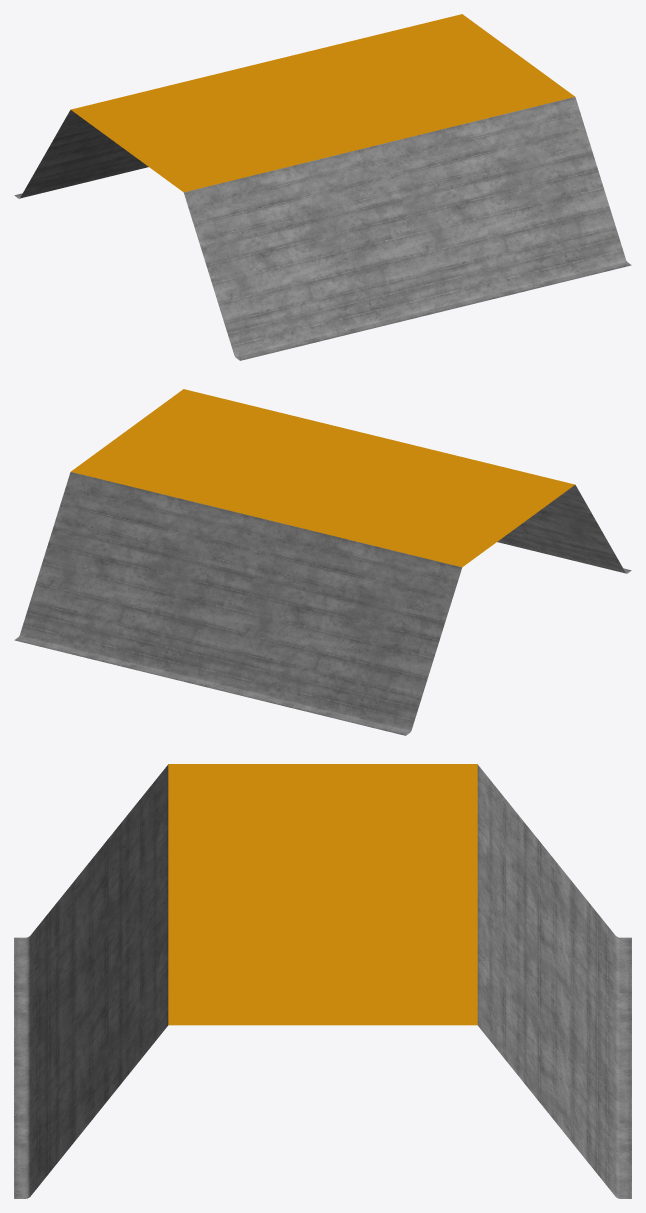
Rendered from SM_Ceiling_27.fbx.
3 views of the same model, one above another, from view 1: azimuth 30°, elevation 25°; view 2: azimuth 150°, elevation 25°; view 3: azimuth 270°, elevation 25° (orthographic). The views are drawn at different scales.
Visible parts, largest first — view 1: SM_Ceiling_27; view 2: SM_Ceiling_27; view 3: SM_Ceiling_27.
Boxes of the visible parts, x1,y1,x2,y2 form: SM_Ceiling_27: (14, 14, 631, 360); SM_Ceiling_27: (14, 389, 631, 735); SM_Ceiling_27: (14, 764, 631, 1198).
Size of the model in its own units: 400 by 124 by 400.
